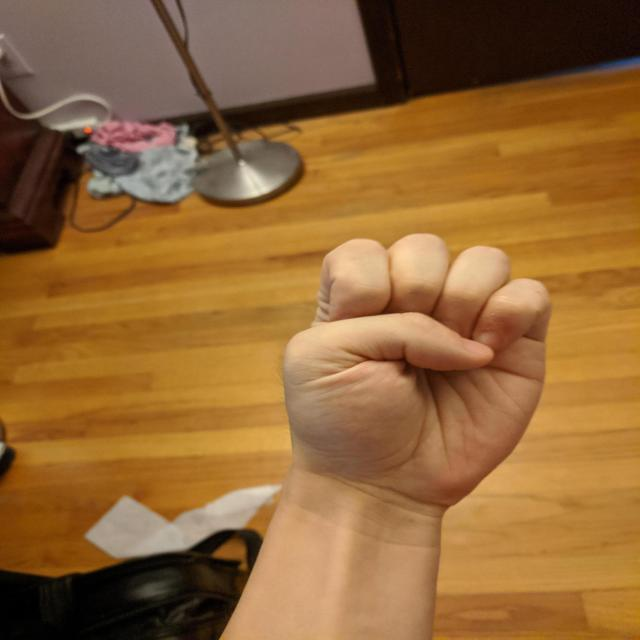E: (278, 229, 560, 520)
